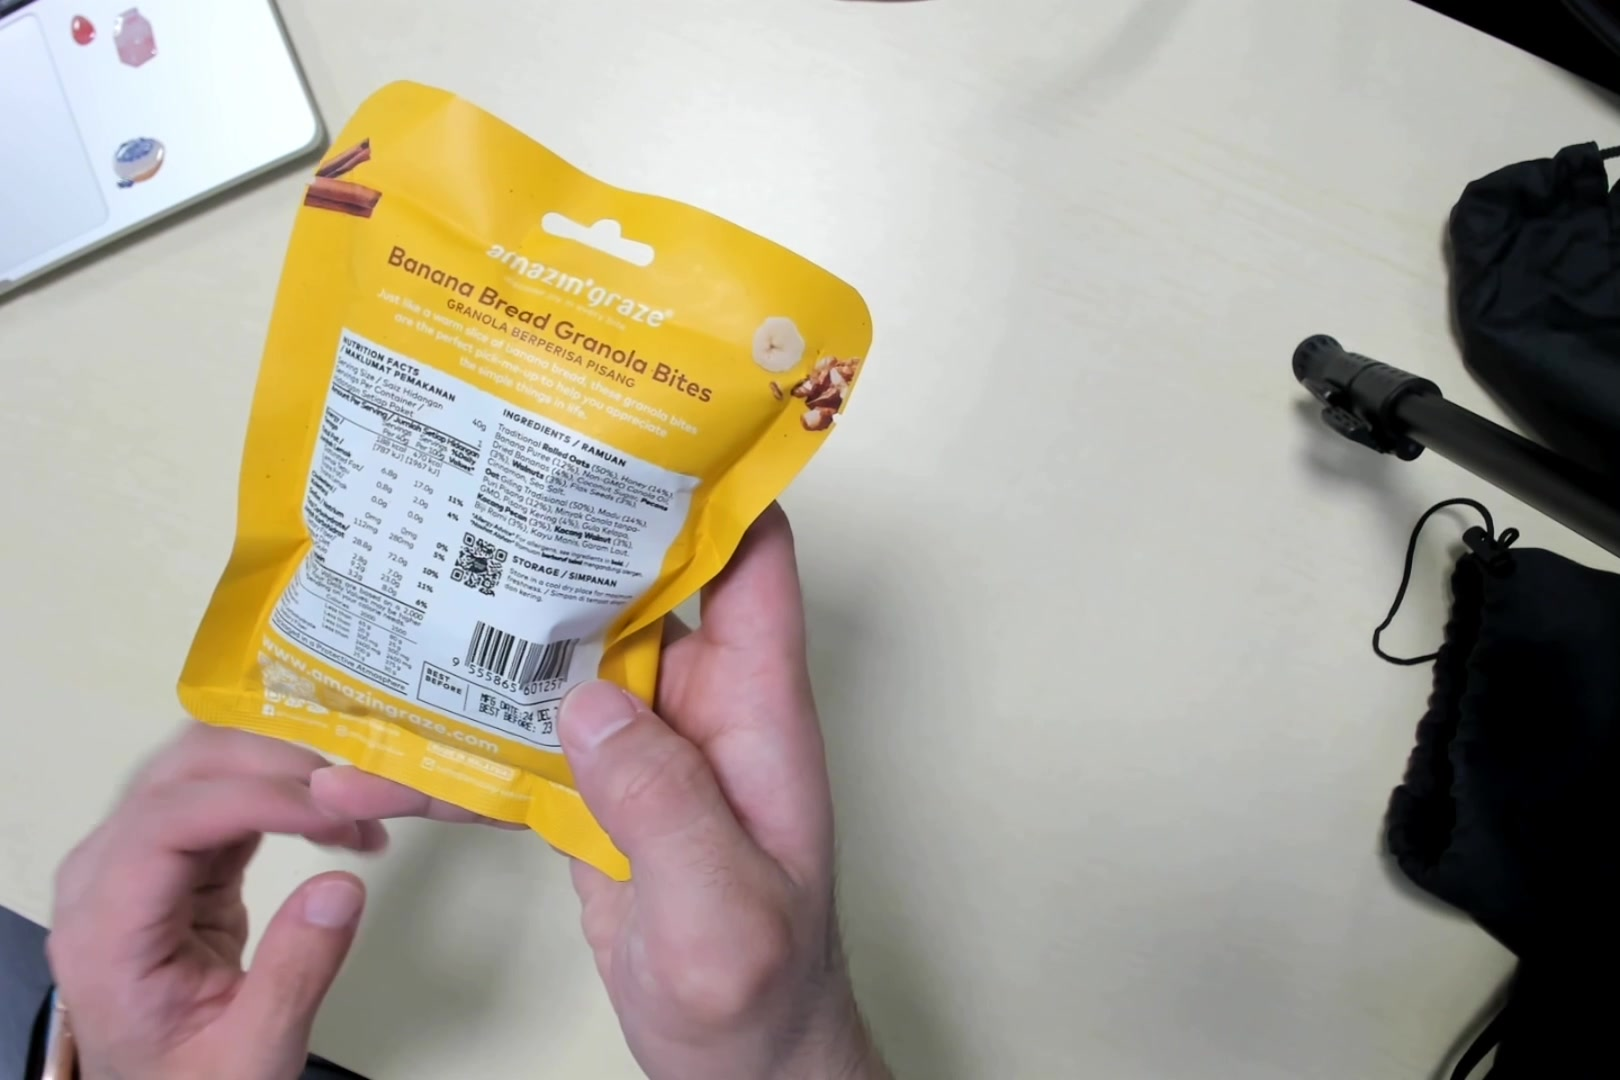BreakfastCereals_0-99g_NonHalal_NonHealthy: (230, 88, 779, 814)
